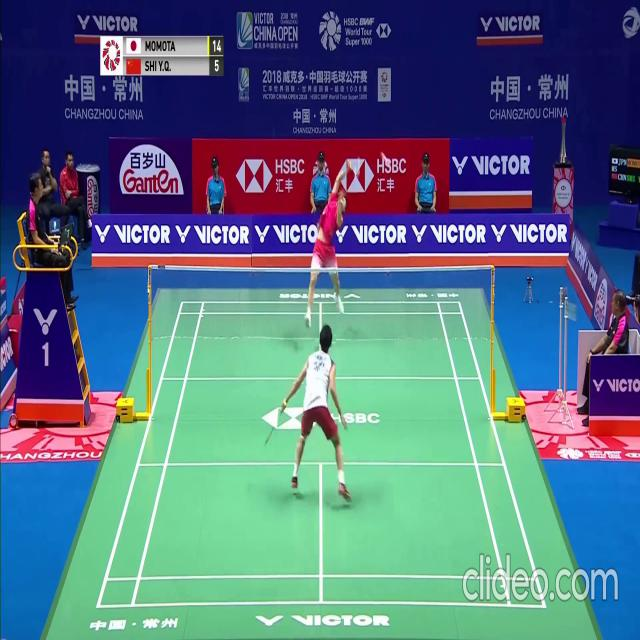Shuttlecock: (385, 157, 390, 164)
